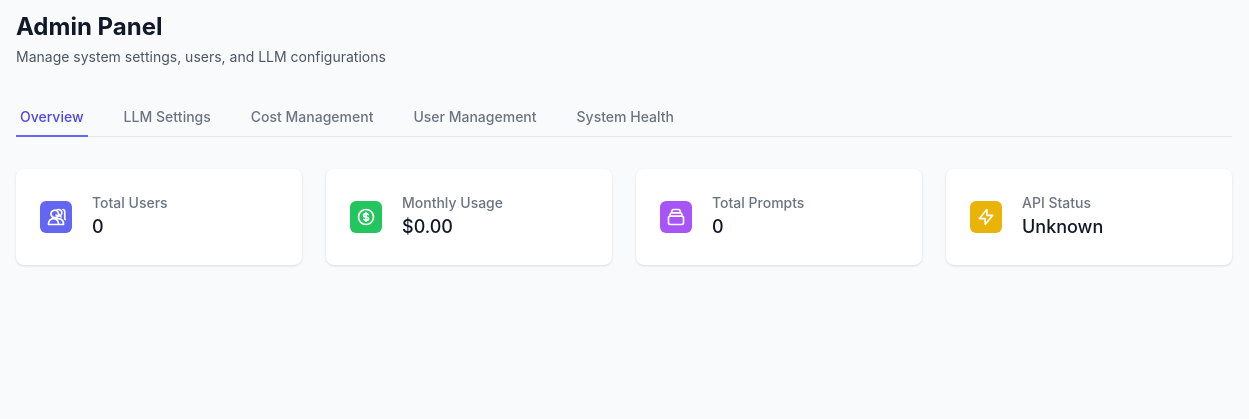
Test case: AdminPanel › should handle user management tab
Click the button "User Management" at {"x": 475, "y": 118}, box [409,99,540,137]
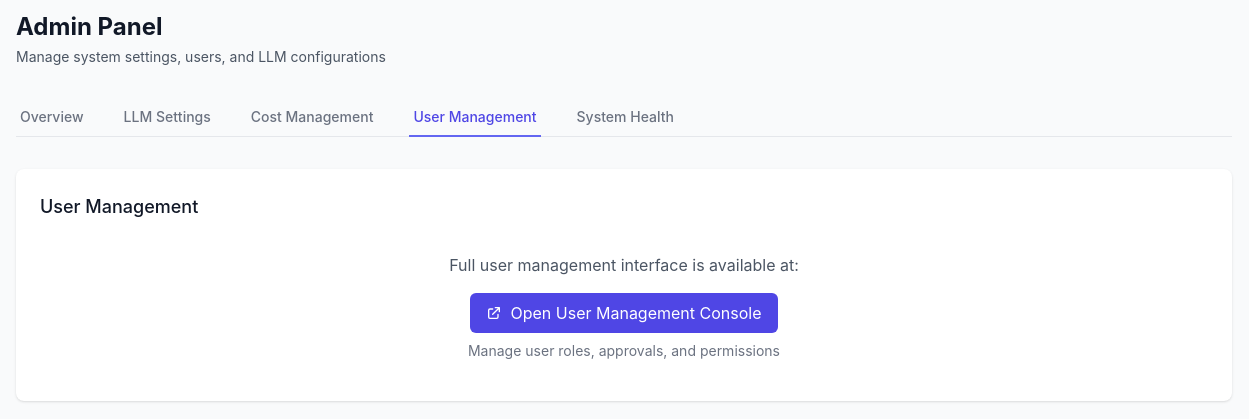
Now the text "Full user management interface is available at:" is shown, box [449,255,799,275]
